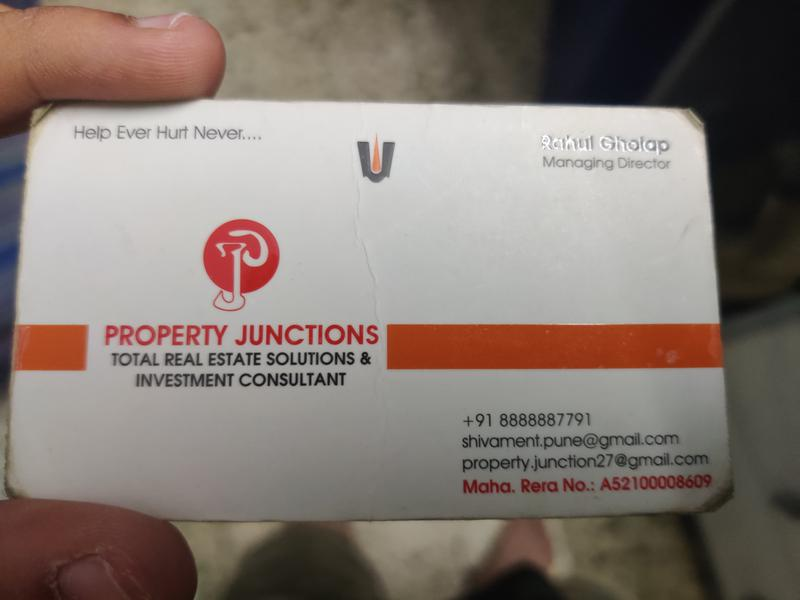card: (1, 94, 745, 526)
